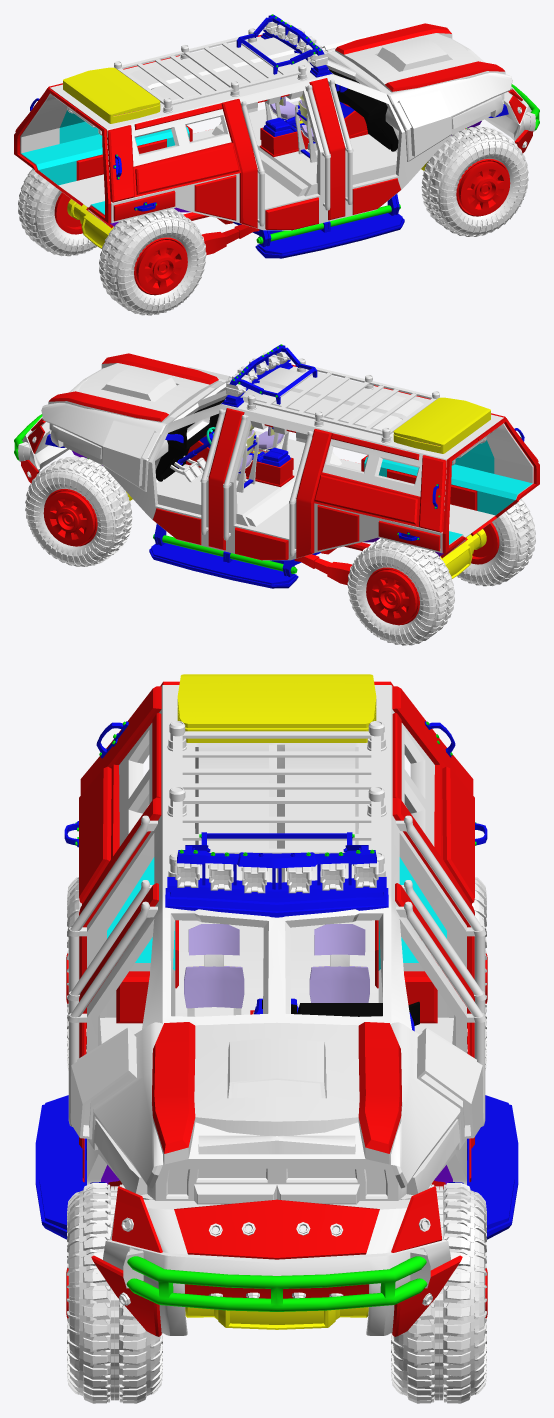
Rendered from New_crawler_static.fbx.
3 views of the same model, one above another, from view 1: azimuth 30°, elevation 25°; view 2: azimuth 150°, elevation 25°; view 3: azimuth 270°, elevation 25° (orthographic). The views are drawn at different scales.
Visible parts, largest first — view 1: Hull_base, Wheel_base.001, Wheel_base.003, Interior_floor, Front_side_covers, Lid_mesh, Step_bar, Wheel_base.004, Back_box, Roof_cylinders, Chasis_base, Bumper (+7 smaller); view 2: Hull_base, Wheel_base.002, Wheel_base.004, Interior_floor, Front_side_covers, Lid_mesh, Step_bar, Wheel_base.003, Back_box, Roof_cylinders, Chasis_base, Bumper (+9 smaller); view 3: Hull_base, Bumper, Lid_mesh, Front_side_covers, Wheel_base.002, Wheel_base.001, Back_box, Roof_cylinders, Roof_lights_rack, Step_bar, Pilot_chair, Side_pole.001 (+8 smaller).
Boxes of the visible parts, x1=… form: Hull_base: x1=14, y1=34, x2=504, y2=230; Wheel_base.001: x1=421, y1=126, x2=528, y2=236; Wheel_base.003: x1=99, y1=208, x2=206, y2=315; Interior_floor: x1=54, y1=74, x2=398, y2=196; Front_side_covers: x1=322, y1=32, x2=512, y2=161; Lid_mesh: x1=335, y1=23, x2=505, y2=92; Step_bar: x1=255, y1=193, x2=404, y2=258; Wheel_base.004: x1=18, y1=168, x2=96, y2=256; Back_box: x1=63, y1=67, x2=160, y2=123; Roof_cylinders: x1=117, y1=34, x2=300, y2=105; Chasis_base: x1=67, y1=161, x2=427, y2=255; Bumper: x1=485, y1=84, x2=539, y2=153; Hull_base: x1=49, y1=364, x2=539, y2=560; Wheel_base.002: x1=25, y1=456, x2=132, y2=566; Wheel_base.004: x1=347, y1=538, x2=454, y2=645; Interior_floor: x1=155, y1=399, x2=499, y2=526; Front_side_covers: x1=41, y1=362, x2=231, y2=491; Lid_mesh: x1=48, y1=353, x2=218, y2=422; Step_bar: x1=149, y1=523, x2=298, y2=588; Wheel_base.003: x1=457, y1=498, x2=535, y2=586; Back_box: x1=393, y1=397, x2=490, y2=453; Roof_cylinders: x1=253, y1=364, x2=436, y2=435; Chasis_base: x1=126, y1=491, x2=486, y2=585; Bumper: x1=14, y1=414, x2=68, y2=483; Hull_base: x1=79, y1=681, x2=474, y2=1204; Bumper: x1=91, y1=1186, x2=462, y2=1336; Lid_mesh: x1=151, y1=1022, x2=402, y2=1164; Front_side_covers: x1=70, y1=1022, x2=483, y2=1188; Wheel_base.002: x1=391, y1=1182, x2=487, y2=1403; Wheel_base.001: x1=66, y1=1182, x2=162, y2=1403; Back_box: x1=177, y1=674, x2=376, y2=742; Roof_cylinders: x1=173, y1=731, x2=380, y2=853; Roof_lights_rack: x1=165, y1=832, x2=388, y2=917; Step_bar: x1=35, y1=1095, x2=518, y2=1239; Pilot_chair: x1=184, y1=923, x2=369, y2=1016; Side_pole.001: x1=67, y1=901, x2=486, y2=1126.
Size of the model in its own units: 314 by 685 by 293.
